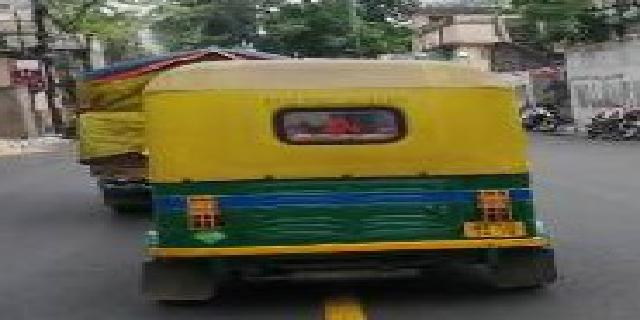Autorickshaw: (136, 53, 559, 306)
Minitruck: (73, 49, 149, 216)
